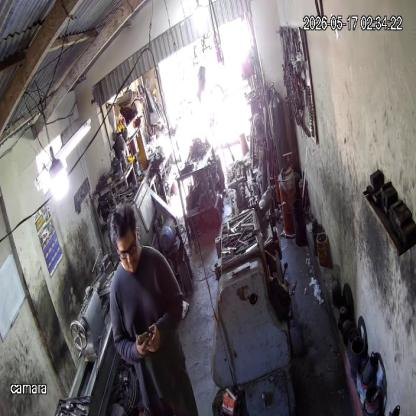lentes: (115, 238, 138, 264)
